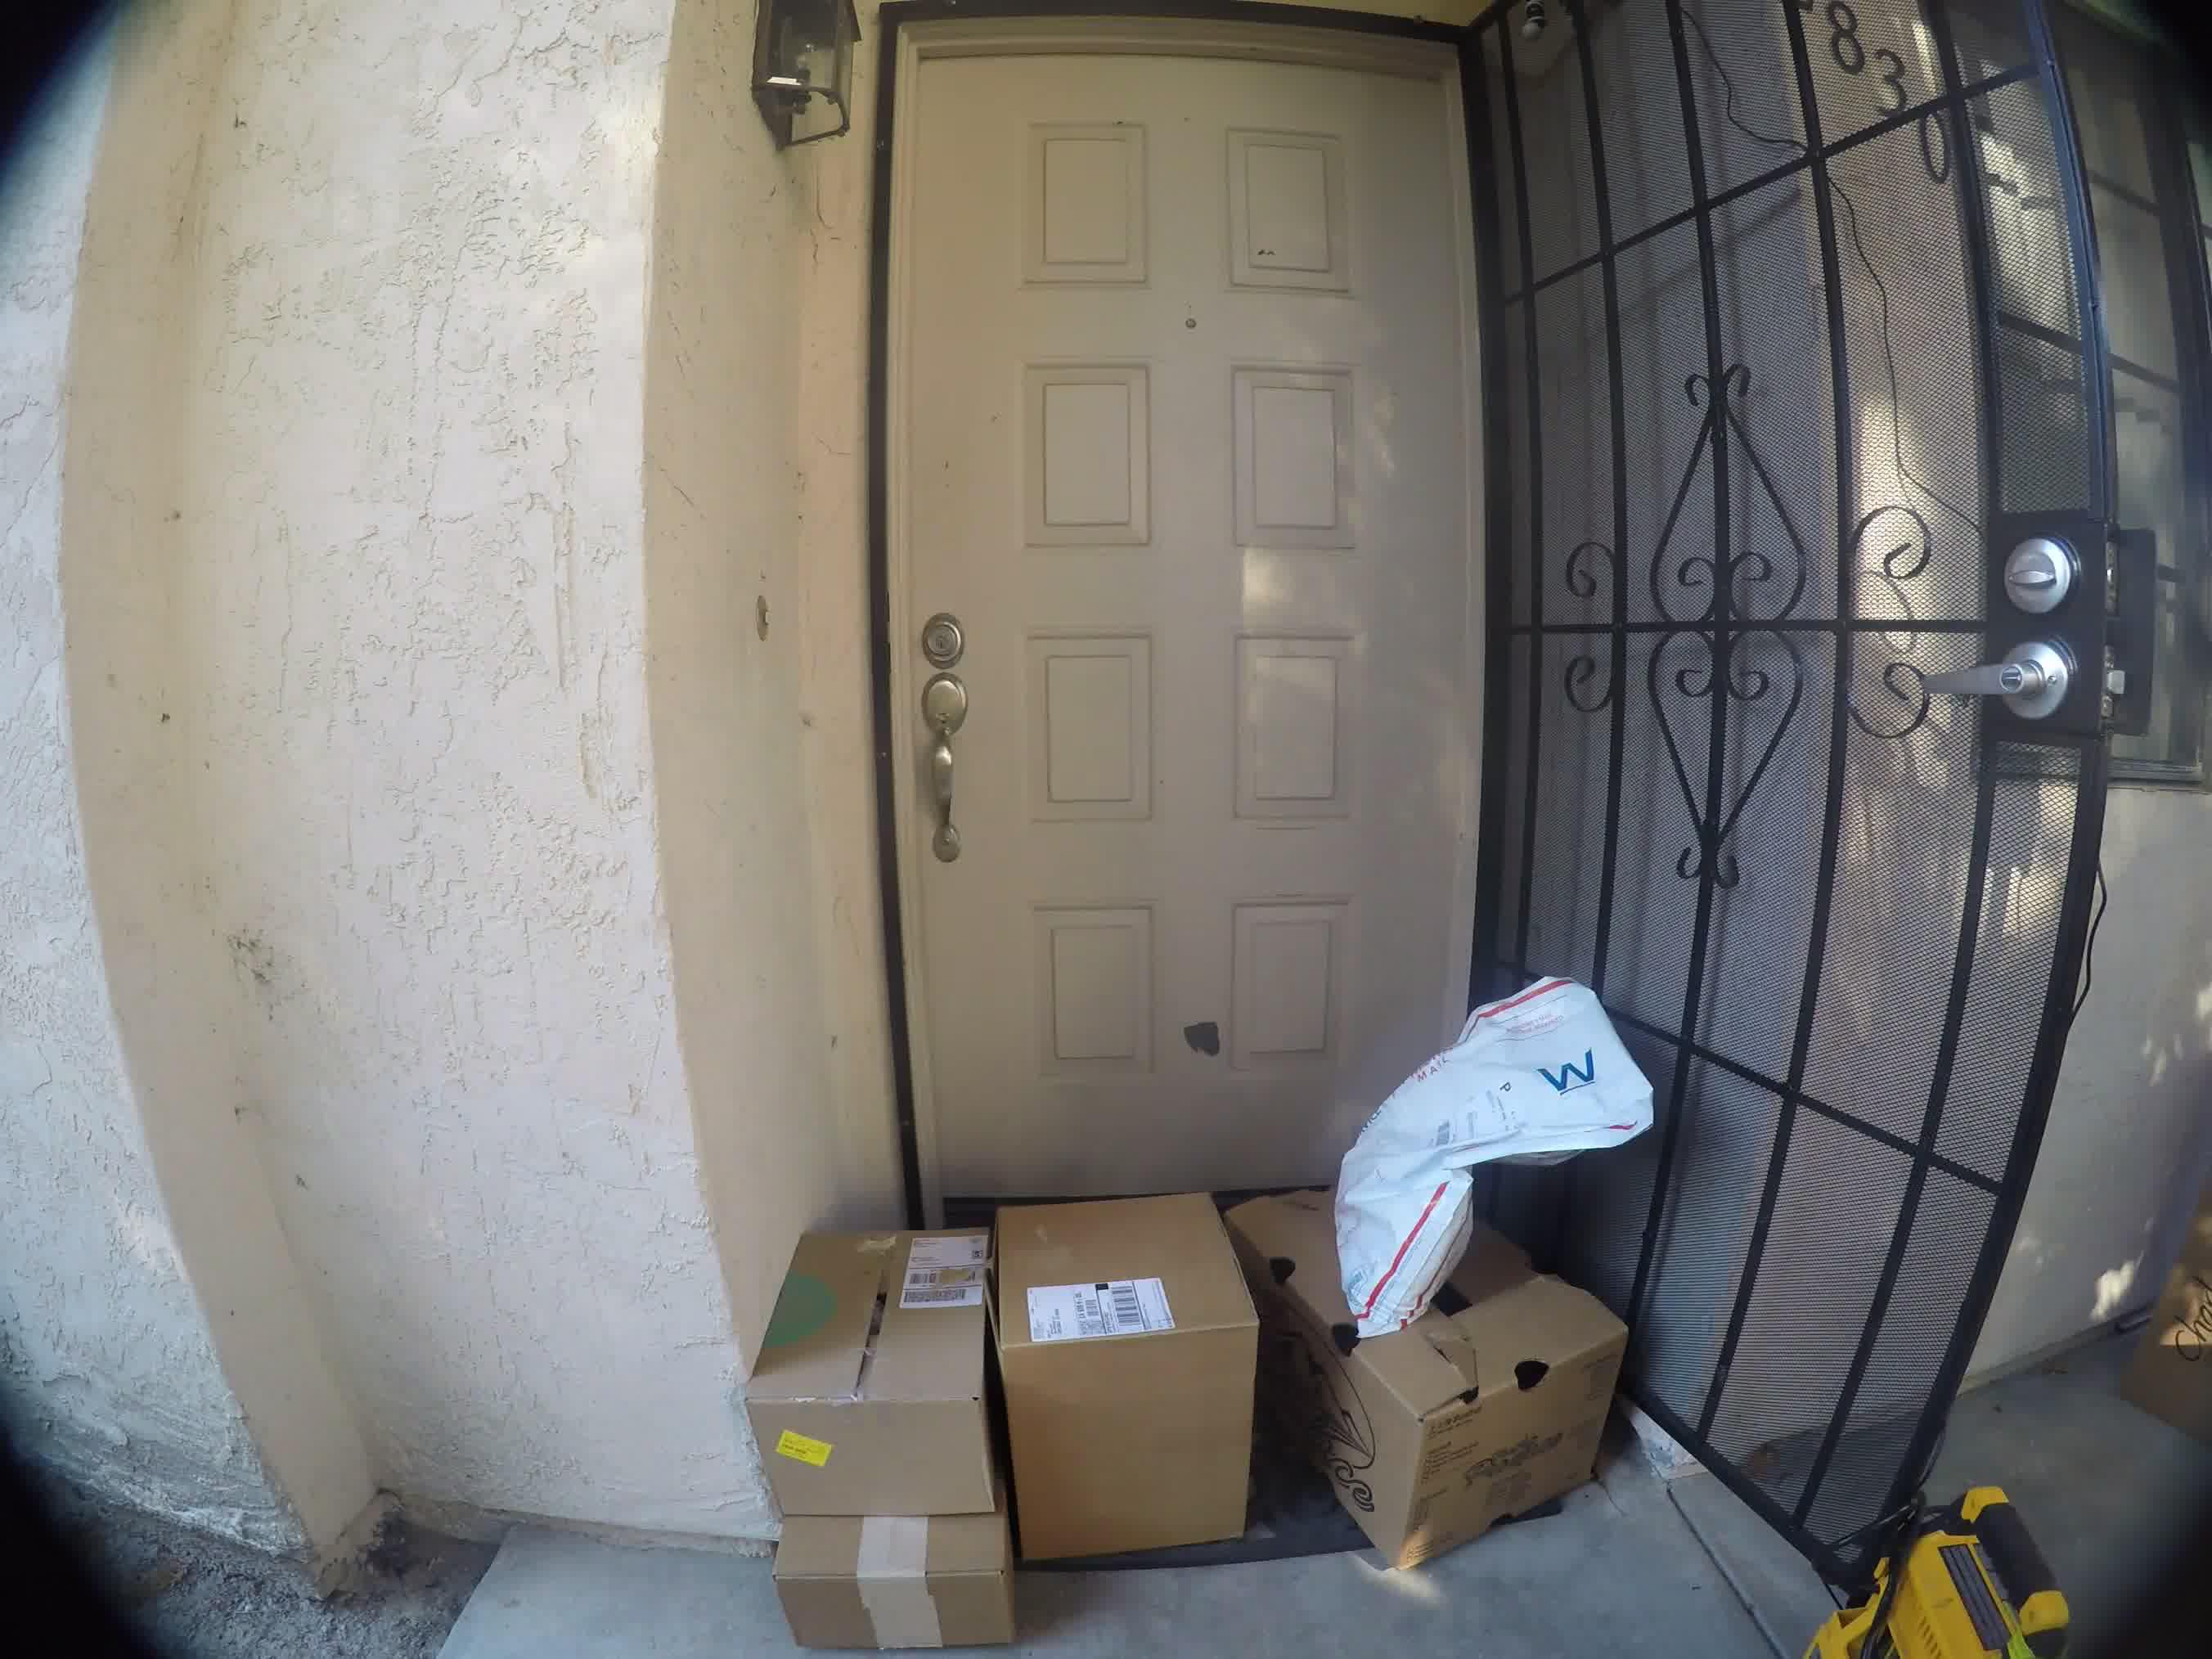box: (998, 1178, 1278, 1565), (752, 1197, 993, 1520), (1327, 1344, 1646, 1546)
plastic_bag: (1298, 941, 1665, 1314)
